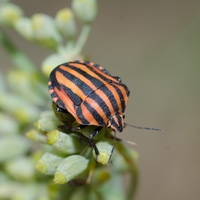insect: (48, 61, 129, 131)
